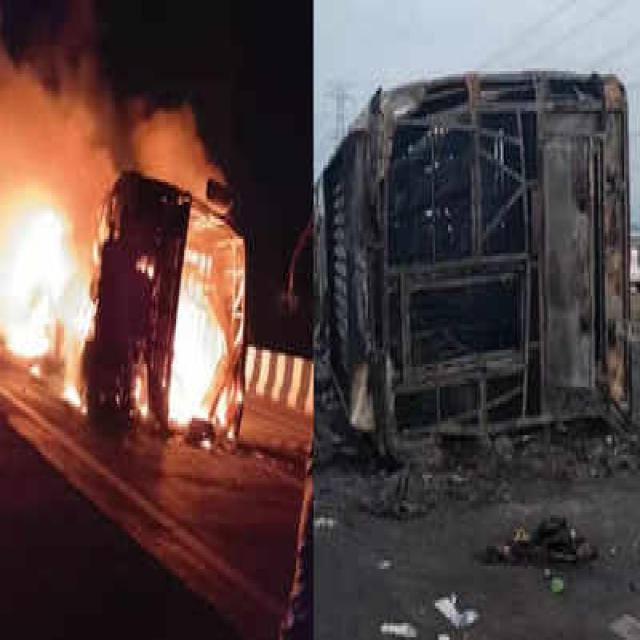accident: (320, 67, 631, 452), (82, 171, 248, 434)
